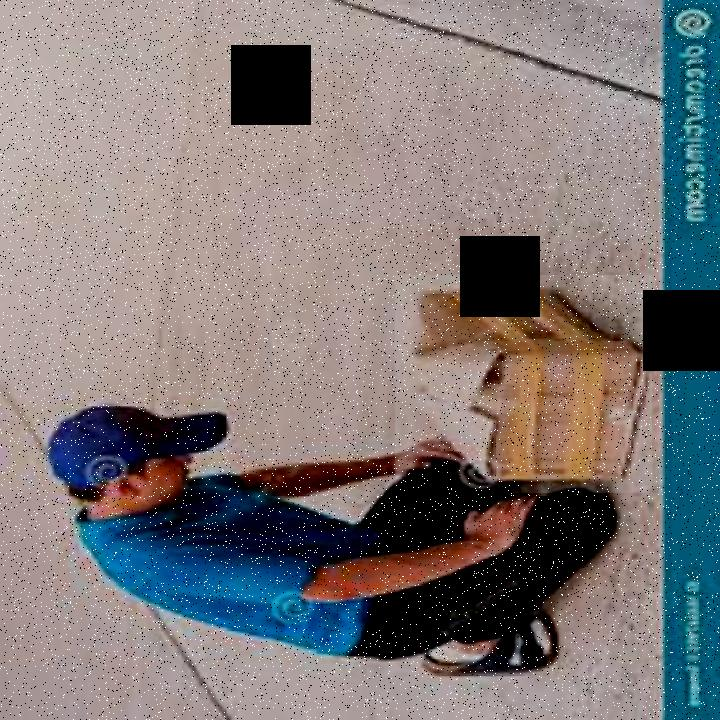box: (395, 275, 652, 493)
